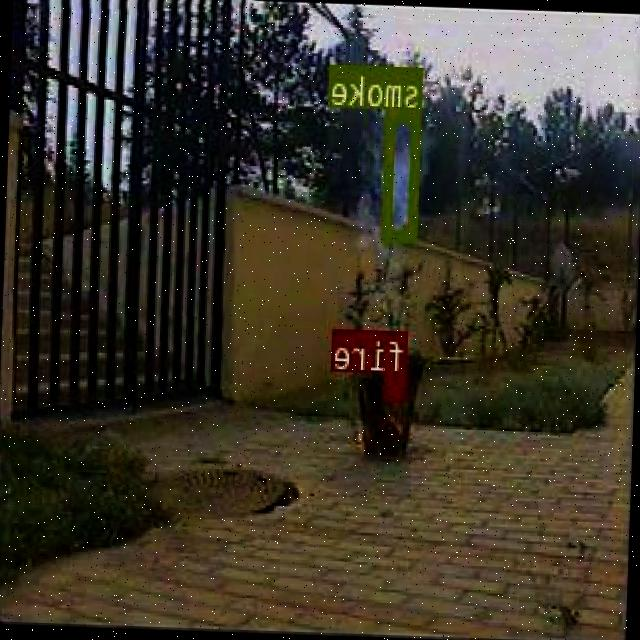fire: (386, 371, 408, 400)
smoke: (384, 106, 423, 240)
